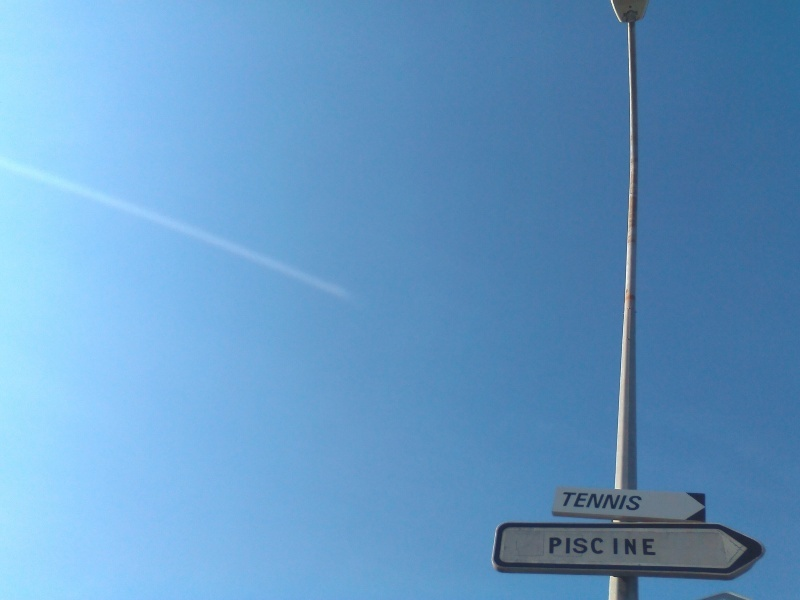text: (561, 491, 576, 512), (577, 491, 592, 512), (593, 491, 608, 512), (609, 491, 624, 512), (625, 491, 640, 512), (625, 537, 640, 556), (641, 537, 656, 556), (561, 537, 576, 555), (577, 537, 592, 555), (593, 537, 607, 555), (612, 537, 624, 556), (549, 537, 560, 555), (641, 491, 643, 512), (657, 537, 658, 556)
